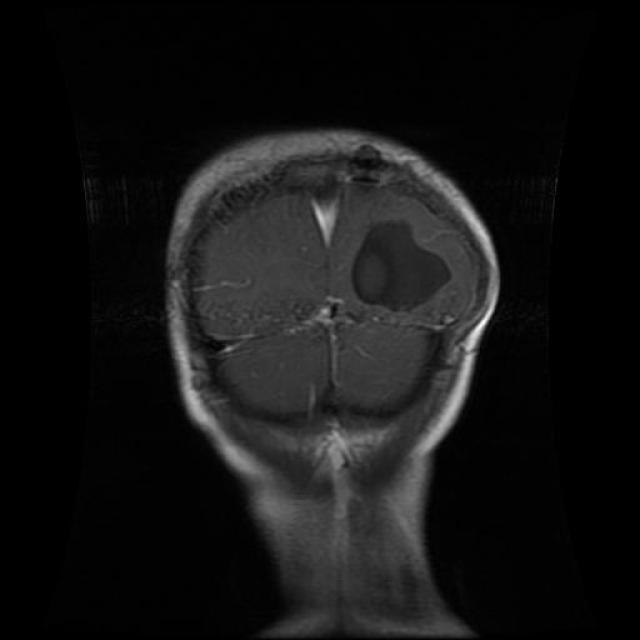glioma: (348, 224, 452, 318)
